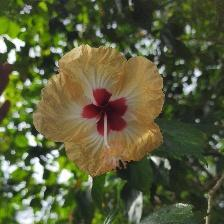hibiscus: (32, 45, 167, 180)
